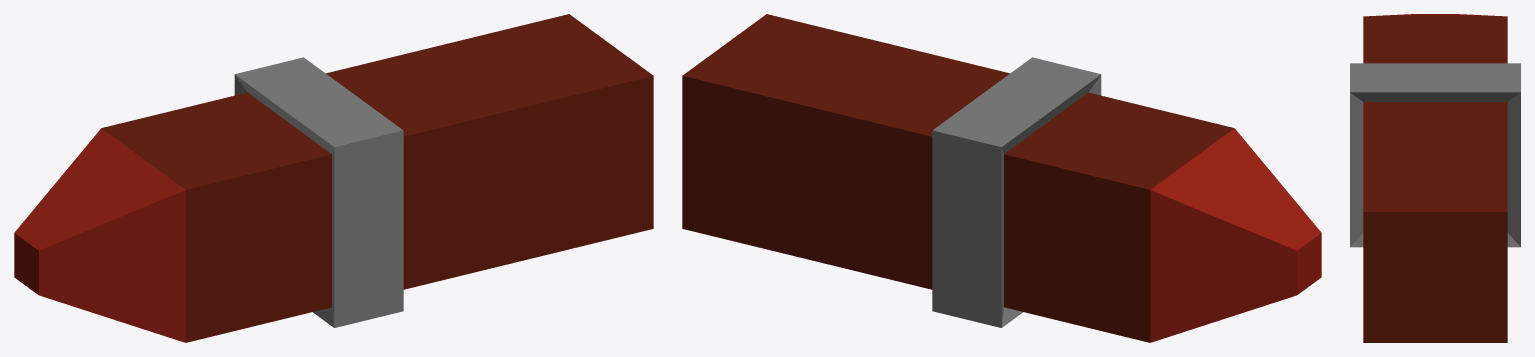
Rendered from Torch.glb.
3 renders of one model, left to right at view 1: azimuth 30°, elevation 25°; view 2: azimuth 150°, elevation 25°; view 3: azimuth 270°, elevation 25°, orthographic. The views are drawn at different scales.
Parts seen in each view (by area): view 1: Plane; view 2: Plane; view 3: Plane.
Part boxes in pixels (x1,y1,x2,y2): Plane: (14, 14, 653, 342); Plane: (682, 14, 1321, 342); Plane: (1350, 14, 1520, 342).
Size of the model in its own units: 2 by 0.591 by 0.591.
Materials: 1 (1 with a texture image).
